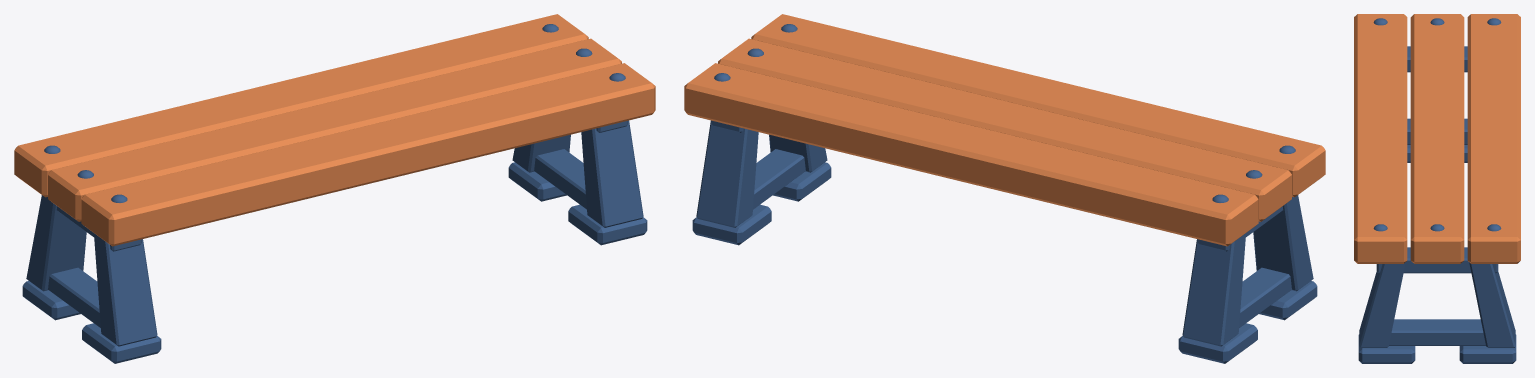
The model's file is bench.glb.
The picture shows the model from 3 angles, left to right: view 1: azimuth 30°, elevation 25°; view 2: azimuth 150°, elevation 25°; view 3: azimuth 270°, elevation 25°; orthographic projection. The views are drawn at different scales.
Visible parts, largest first — view 1: seat_plank_1, seat_plank_3, seat_plank_2, leg_L_f, leg_R_f, leg_L_b, rail_bottom_R, rail_bottom_L, foot_L_f, foot_R_f, foot_R_b, foot_L_b (+1 smaller); view 2: seat_plank_3, seat_plank_1, seat_plank_2, leg_L_b, leg_R_b, leg_L_f, rail_bottom_R, rail_bottom_L, foot_L_b, foot_R_b, foot_R_f, foot_L_f (+1 smaller); view 3: seat_plank_2, seat_plank_1, seat_plank_3, leg_R_b, leg_R_f, rail_bottom_R, foot_R_b, foot_R_f, rail_top_R, rail_bottom_L, rail_top_L.
Boxes of the visible parts, x1,y1,x2,y2 form: seat_plank_1: [81, 63, 655, 246]; seat_plank_3: [14, 14, 588, 197]; seat_plank_2: [48, 38, 621, 221]; leg_L_f: [94, 233, 157, 346]; leg_R_f: [581, 120, 643, 227]; leg_L_b: [26, 195, 86, 291]; rail_bottom_R: [534, 149, 586, 209]; rail_bottom_L: [48, 267, 100, 327]; foot_L_f: [82, 323, 161, 363]; foot_R_f: [568, 204, 647, 245]; foot_R_b: [508, 162, 566, 201]; foot_L_b: [22, 281, 80, 320]; seat_plank_3: [684, 63, 1258, 246]; seat_plank_1: [751, 14, 1325, 197]; seat_plank_2: [718, 38, 1291, 221]; leg_L_b: [1182, 233, 1245, 346]; leg_R_b: [696, 120, 758, 227]; leg_L_f: [1253, 195, 1313, 291]; rail_bottom_R: [753, 149, 805, 209]; rail_bottom_L: [1239, 267, 1291, 327]; foot_L_b: [1178, 323, 1257, 363]; foot_R_b: [692, 204, 771, 245]; foot_R_f: [773, 162, 831, 201]; foot_L_f: [1259, 281, 1317, 320]; seat_plank_2: [1410, 14, 1464, 263]; seat_plank_1: [1354, 14, 1407, 263]; seat_plank_3: [1467, 14, 1520, 263]; leg_R_b: [1469, 262, 1515, 347]; leg_R_f: [1359, 262, 1405, 347]; rail_bottom_R: [1389, 319, 1485, 345]; foot_R_b: [1459, 334, 1516, 363]; foot_R_f: [1358, 334, 1415, 363]; rail_top_R: [1376, 247, 1498, 273]; rail_bottom_L: [1407, 118, 1467, 144]; rail_top_L: [1407, 46, 1467, 72].
Bounding box in the file's own units: 1.8 × 0.4927 × 0.562.
